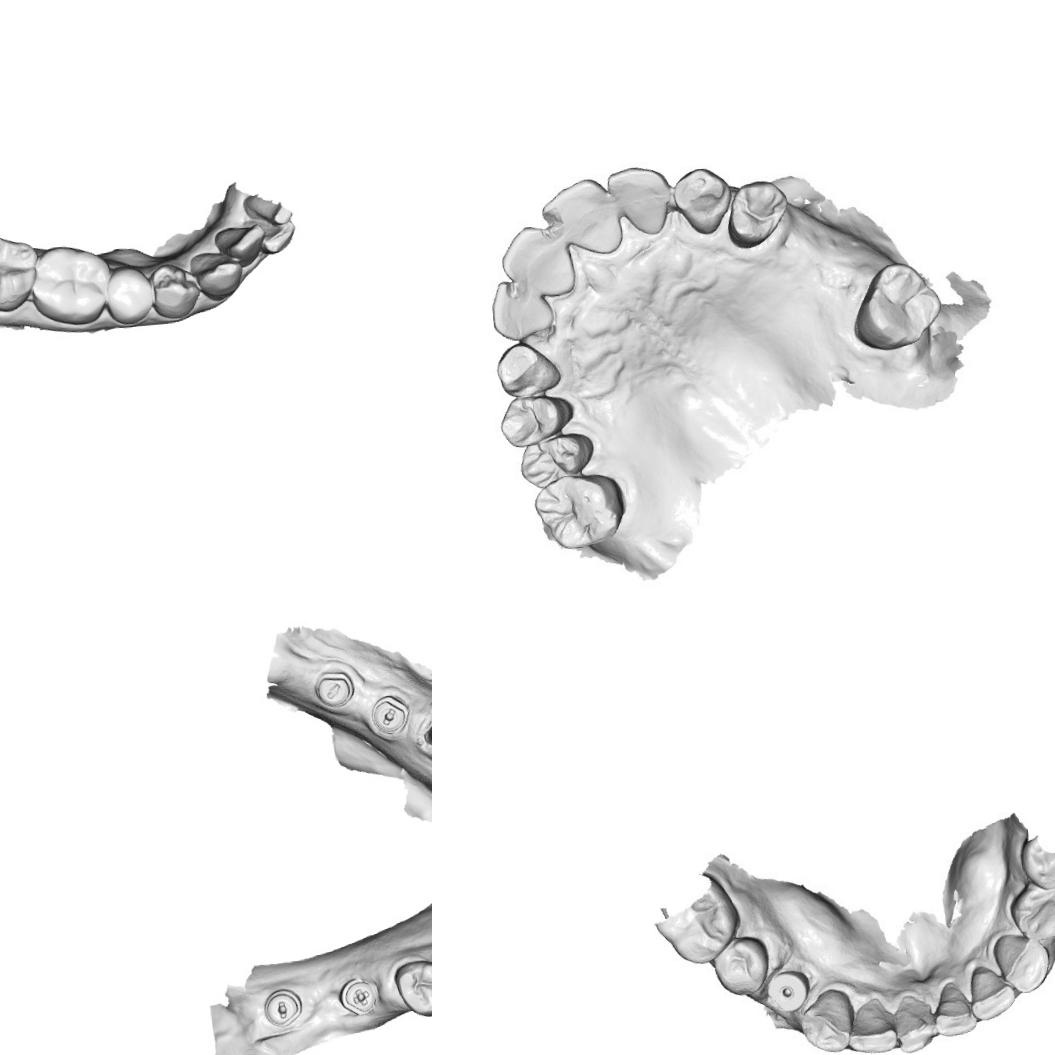canine: (668, 164, 736, 238), (794, 981, 858, 1055), (490, 340, 560, 402), (990, 930, 1054, 997), (188, 247, 246, 303)
crown: (421, 703, 432, 755)
implant: (765, 968, 808, 1014)
implant_minus: (369, 690, 413, 739), (262, 986, 304, 1030), (315, 667, 357, 710)
implant_plus: (338, 975, 380, 1017)
incisor: (536, 174, 624, 260), (497, 220, 578, 302), (604, 159, 672, 241), (486, 274, 556, 342), (928, 975, 978, 1042), (844, 1001, 902, 1055), (964, 966, 1016, 1020), (212, 221, 268, 269), (894, 998, 941, 1055), (244, 214, 297, 256)
molar: (650, 868, 744, 970), (848, 258, 948, 353), (529, 466, 629, 555), (27, 240, 115, 329), (0, 228, 43, 315)
premolar: (720, 176, 792, 252), (514, 427, 598, 490), (493, 387, 575, 448), (712, 934, 780, 997), (102, 262, 156, 326), (148, 260, 203, 320), (1010, 883, 1055, 948), (392, 954, 432, 1021), (1022, 829, 1055, 888)
